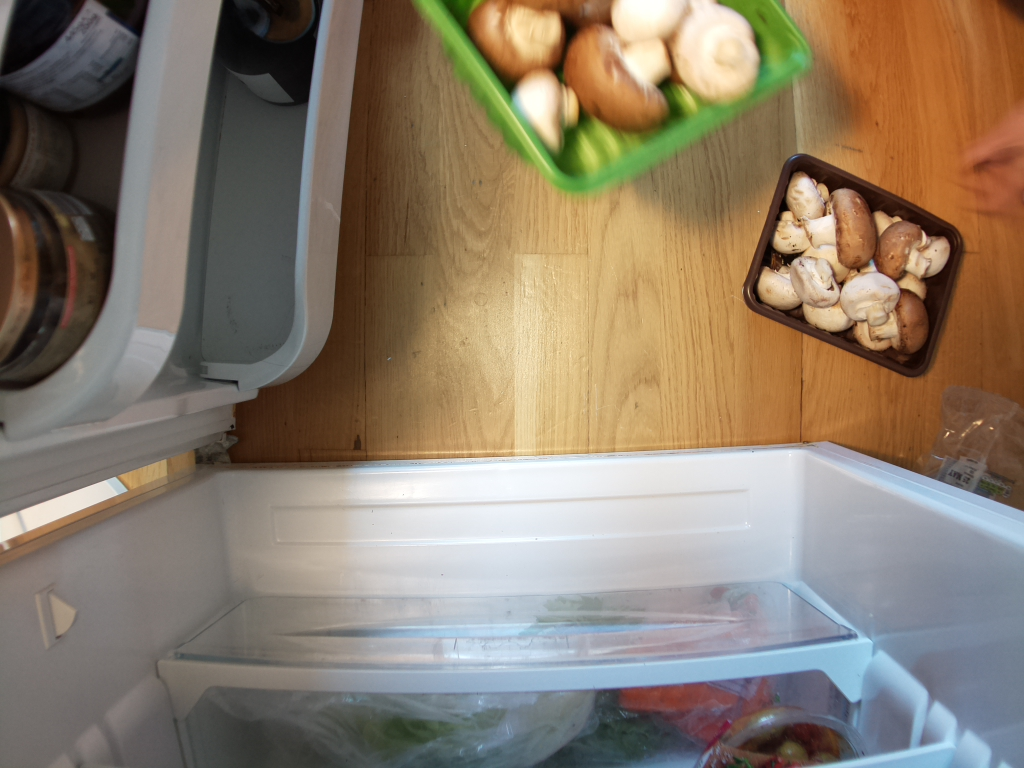mushrooms: (466, 1, 773, 181), (750, 165, 957, 376)
